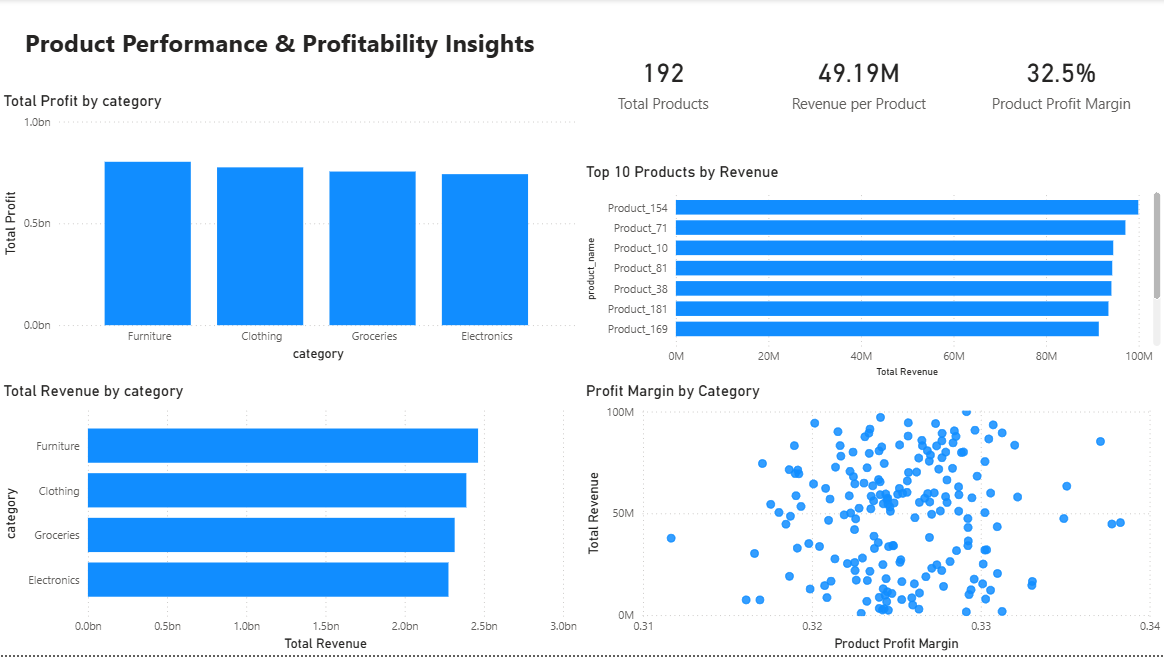

This screenshot's page, from the dashboard's own definition file:
{"tool":"powerbi","page":{"name":"Page 3","canvas":[1280,720],"ordinal":2},"visuals":[{"type":"card","fields":{"Values":["customers.Total Products"]},"box":[623,0,212.7,179.8],"z":0},{"type":"card","fields":{"Values":["customers.Revenue per Product"]},"box":[835.7,0,216.8,179.8],"z":1},{"type":"card","fields":{"Values":["customers.Product Profit Margin"]},"box":[1052.5,0,227.8,179.8],"z":2},{"type":"clusteredColumnChart","fields":{"Category":["products.category"],"Y":["orders.Total Profit"]},"box":[0,101.5,639.5,300.5],"z":3},{"type":"clusteredBarChart","fields":{"Category":["products.category"],"Y":["orders.Total Revenue"]},"box":[0,419.9,639.5,300.5],"z":4},{"type":"barChart","title":"Top 10 Products by Revenue","fields":{"Category":["products.product_name"],"Y":["orders.Total Revenue"]},"box":[639.5,179.8,640.8,240.1],"z":5},{"type":"scatterChart","title":"Profit Margin by Category","fields":{"Category":["products.product_name"],"Y":["orders.Total Revenue"],"X":["customers.Product Profit Margin"]},"box":[639.5,419.9,640.8,300.5],"z":6},{"type":"textbox","box":[20.6,24.7,575,65.9],"z":7}]}

Visuals, with their boxes in screenshot pixels (x1, y1, x2, y2), scaled from the page's 1280x720 canvas onto the 1164x658 screenshot:
card - customers.Total Products: bbox=[567, 0, 760, 164]
card - customers.Revenue per Product: bbox=[760, 0, 957, 164]
card - customers.Product Profit Margin: bbox=[957, 0, 1163, 164]
clusteredColumnChart - products.category x orders.Total Profit: bbox=[0, 93, 582, 367]
clusteredBarChart - products.category x orders.Total Revenue: bbox=[0, 384, 582, 657]
"Top 10 Products by Revenue" barChart: bbox=[582, 164, 1163, 384]
"Profit Margin by Category" scatterChart: bbox=[582, 384, 1163, 657]
textbox: bbox=[19, 23, 542, 83]
